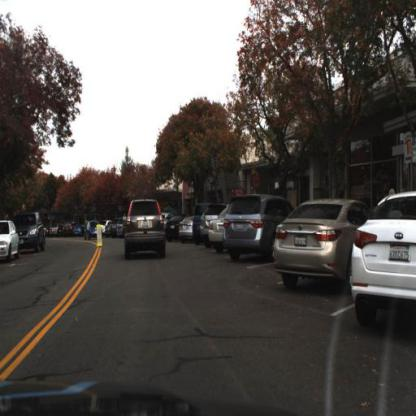car: (353, 190, 416, 336), (275, 194, 371, 287), (224, 192, 297, 263), (224, 194, 287, 258), (122, 199, 167, 263), (14, 212, 46, 254), (199, 204, 223, 245), (208, 208, 227, 255), (1, 221, 20, 264), (201, 204, 219, 246), (209, 206, 224, 252), (165, 215, 183, 245), (191, 202, 202, 244), (179, 213, 193, 244), (85, 221, 104, 239), (62, 220, 73, 240), (72, 222, 84, 240), (98, 221, 112, 235), (50, 224, 61, 238)
